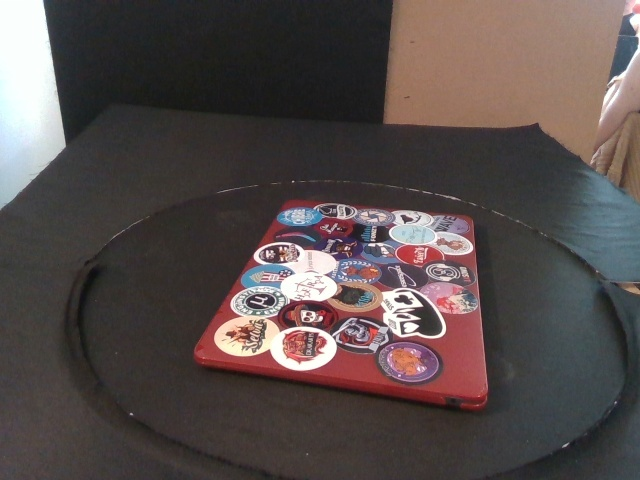laptop: (194, 199, 489, 414)
